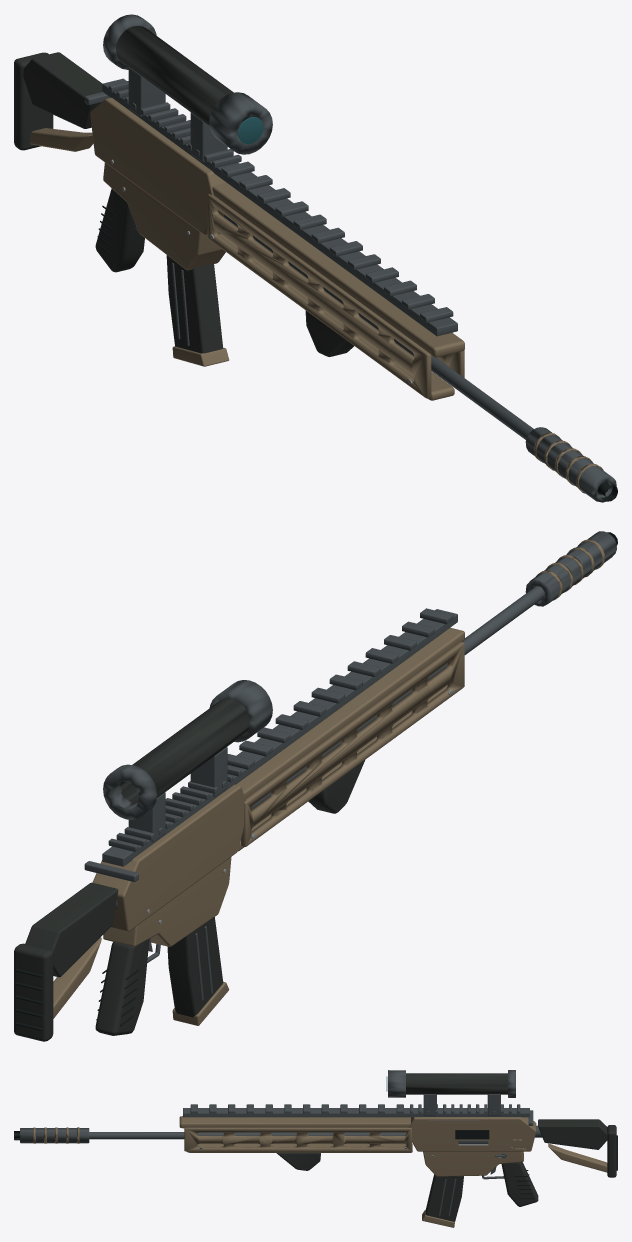
Rendered from wep_sniper.glb.
3 renders of one model, top to bottom at view 1: azimuth 30°, elevation 25°; view 2: azimuth 150°, elevation 25°; view 3: azimuth 270°, elevation 25°, orthographic. The views are drawn at different scales.
Parts seen in each view (by area): view 1: wep_sniper_nc7_coating, wep_sniper_nc7_alloy, wep_sniper_nc7_polymer; view 2: wep_sniper_nc7_coating, wep_sniper_nc7_polymer, wep_sniper_nc7_alloy, wep_sniper_nc7_dark; view 3: wep_sniper_nc7_coating, wep_sniper_nc7_alloy, wep_sniper_nc7_polymer, wep_sniper_nc7_dark.
Boxes of the visible parts, <box> form: wep_sniper_nc7_coating: <box>29,97,603,493</box>; wep_sniper_nc7_alloy: <box>84,14,616,502</box>; wep_sniper_nc7_polymer: <box>14,25,353,356</box>; wep_sniper_nc7_coating: <box>53,539,605,1025</box>; wep_sniper_nc7_polymer: <box>14,698,364,1041</box>; wep_sniper_nc7_alloy: <box>84,531,616,1000</box>; wep_sniper_nc7_dark: <box>14,532,617,1030</box>; wep_sniper_nc7_coating: <box>33,1116,607,1227</box>; wep_sniper_nc7_alloy: <box>20,1070,542,1216</box>; wep_sniper_nc7_polymer: <box>276,1073,616,1221</box>; wep_sniper_nc7_dark: <box>14,1130,617,1198</box>.
Bounding box in the file's own units: 0.076 × 0.4222 × 1.51.
